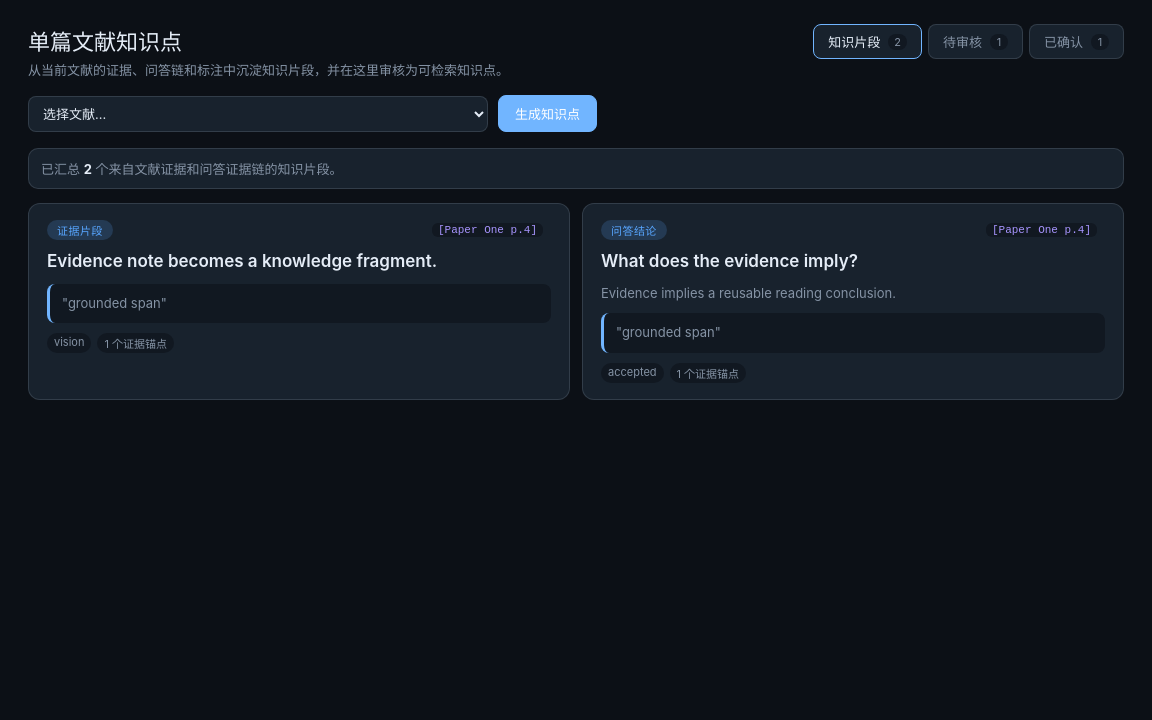
Test: Knowledge review › confirms a draft through the user action path and surfaces it in the confirmed list
Click the button "待审核 1" at (976, 42), box [928,24,1023,59]
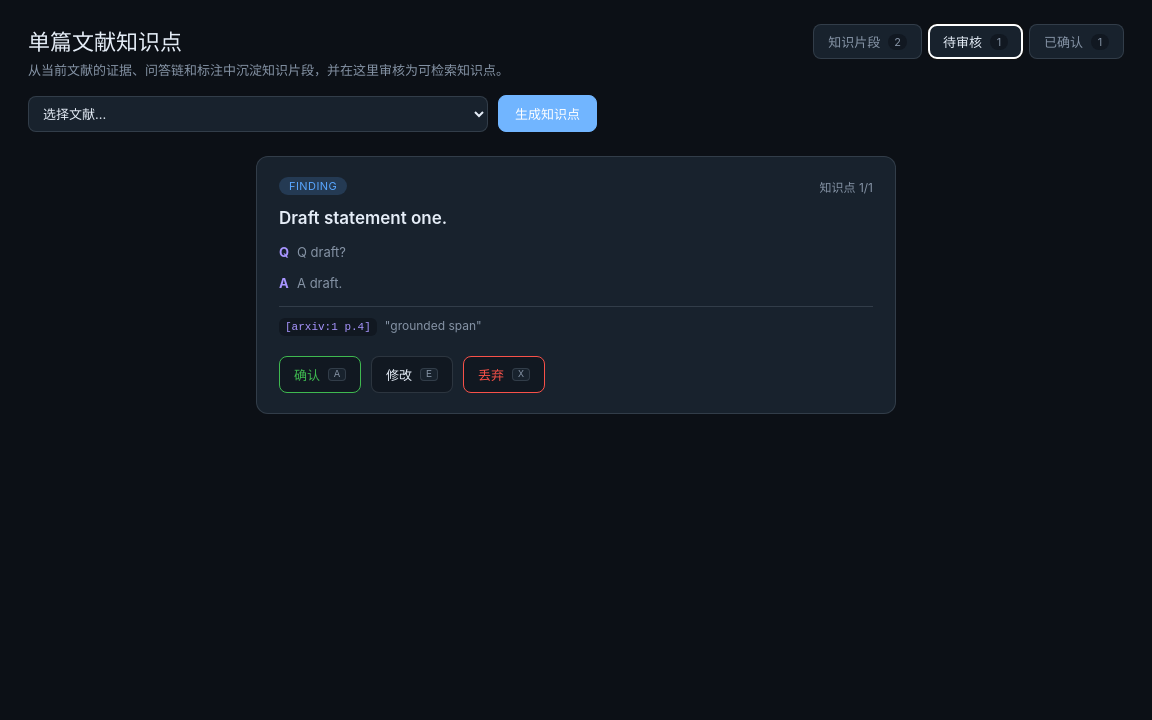
Check: the text "Draft statement one." is shown, box [279,208,447,228]
Click the button "确认 A" at (320, 375), box [279,356,361,393]
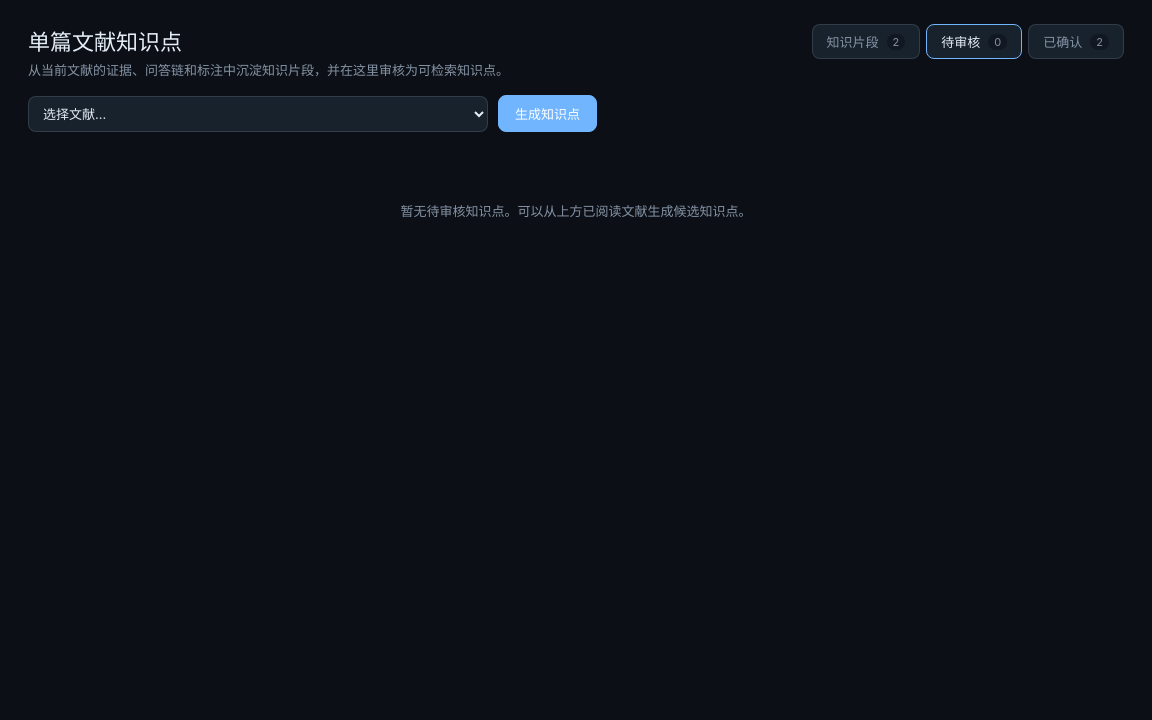
Click the button "已确认 2" at (1076, 42), box [1028,24,1124,59]
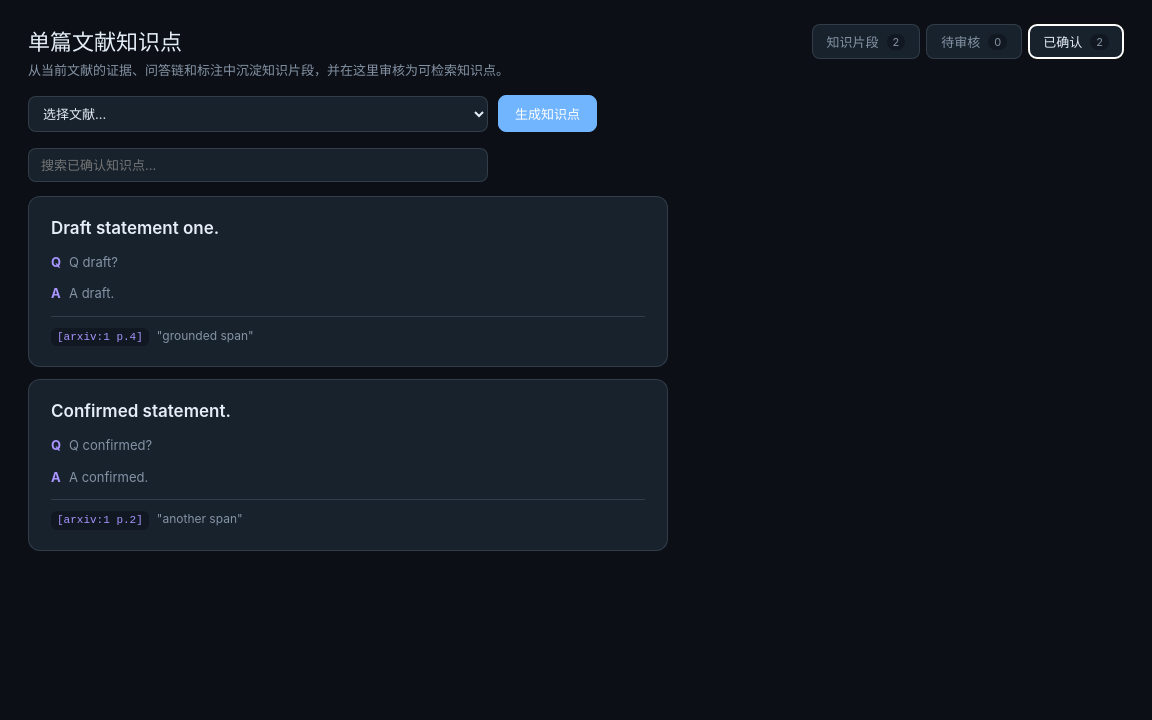
Check: the text "Confirmed statement." is shown, box [51,401,231,421]
Check: the text "Draft statement one." is shown, box [51,218,219,238]
